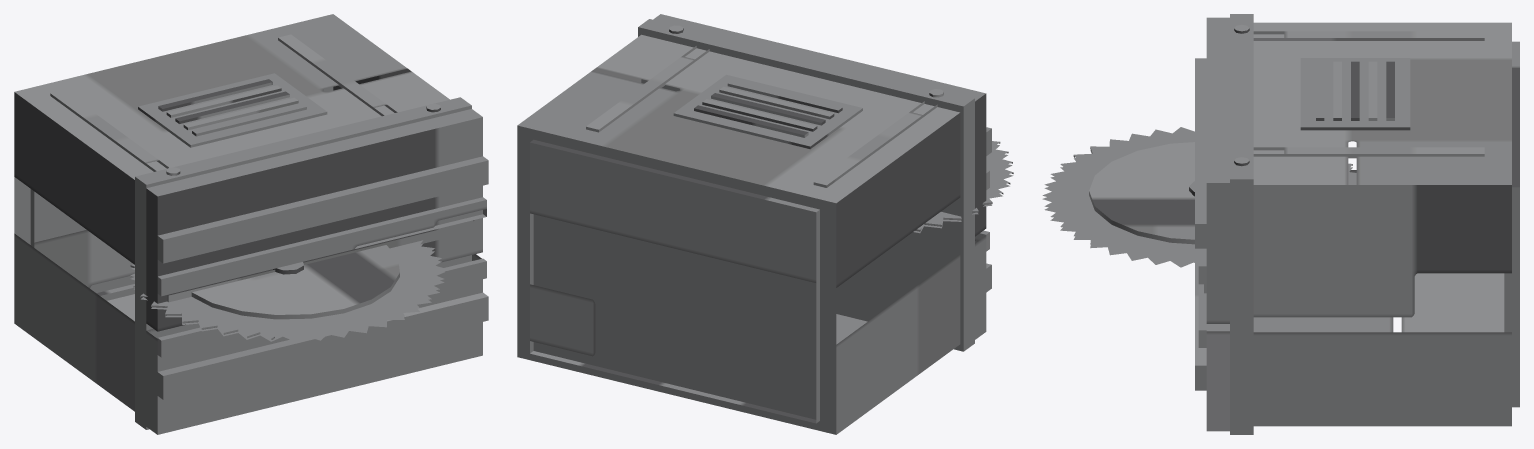
3 renders of one model, left to right at view 1: azimuth 30°, elevation 25°; view 2: azimuth 150°, elevation 25°; view 3: azimuth 270°, elevation 25°, orthographic. The views are drawn at different scales.
Size of the model in its own units: 1.02 by 0.727 by 1.22.
